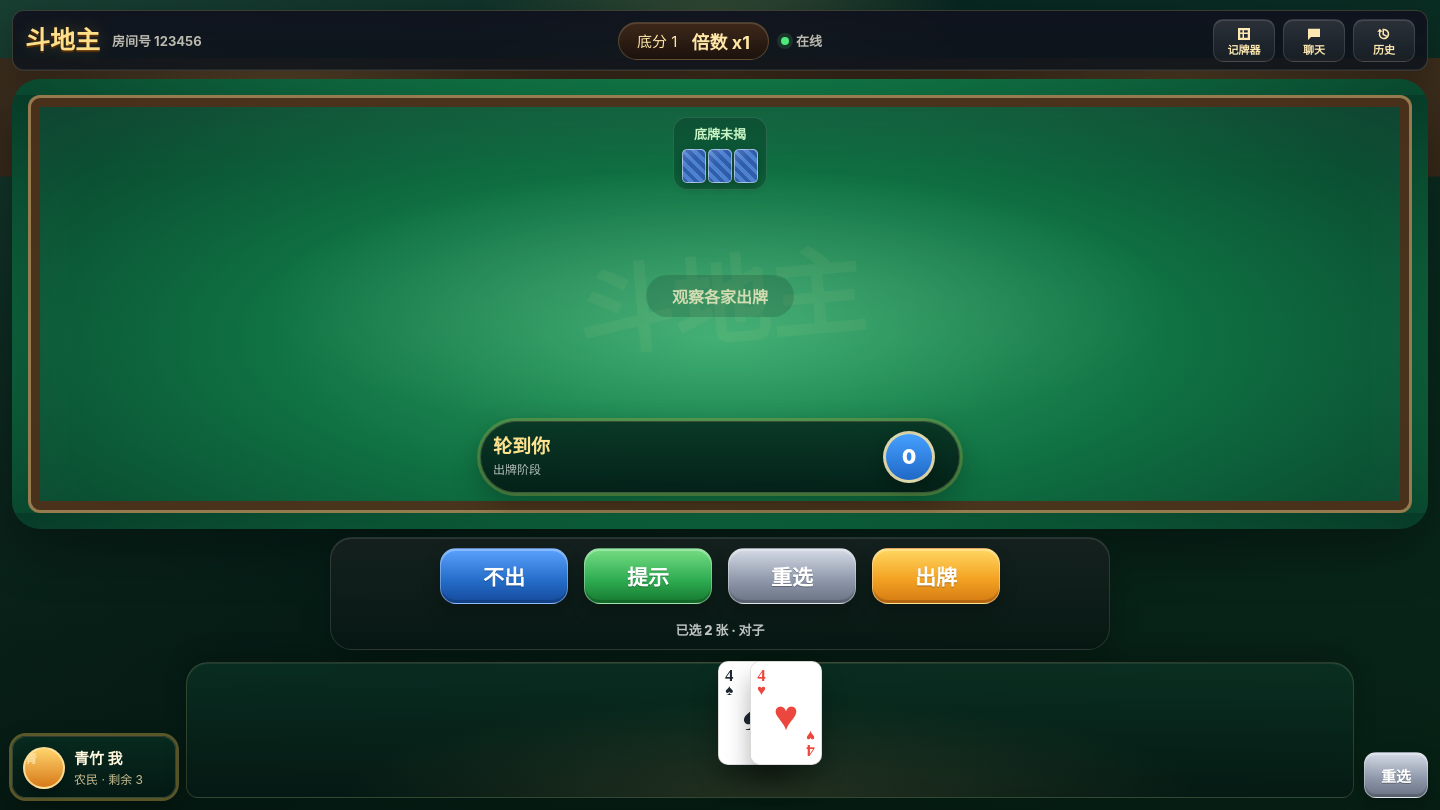
Test: GameTable rule-gated actions › keeps selected cards after a send failure or server rejection
Click the button "出牌" at (936, 576), box [872,548,1000,604]
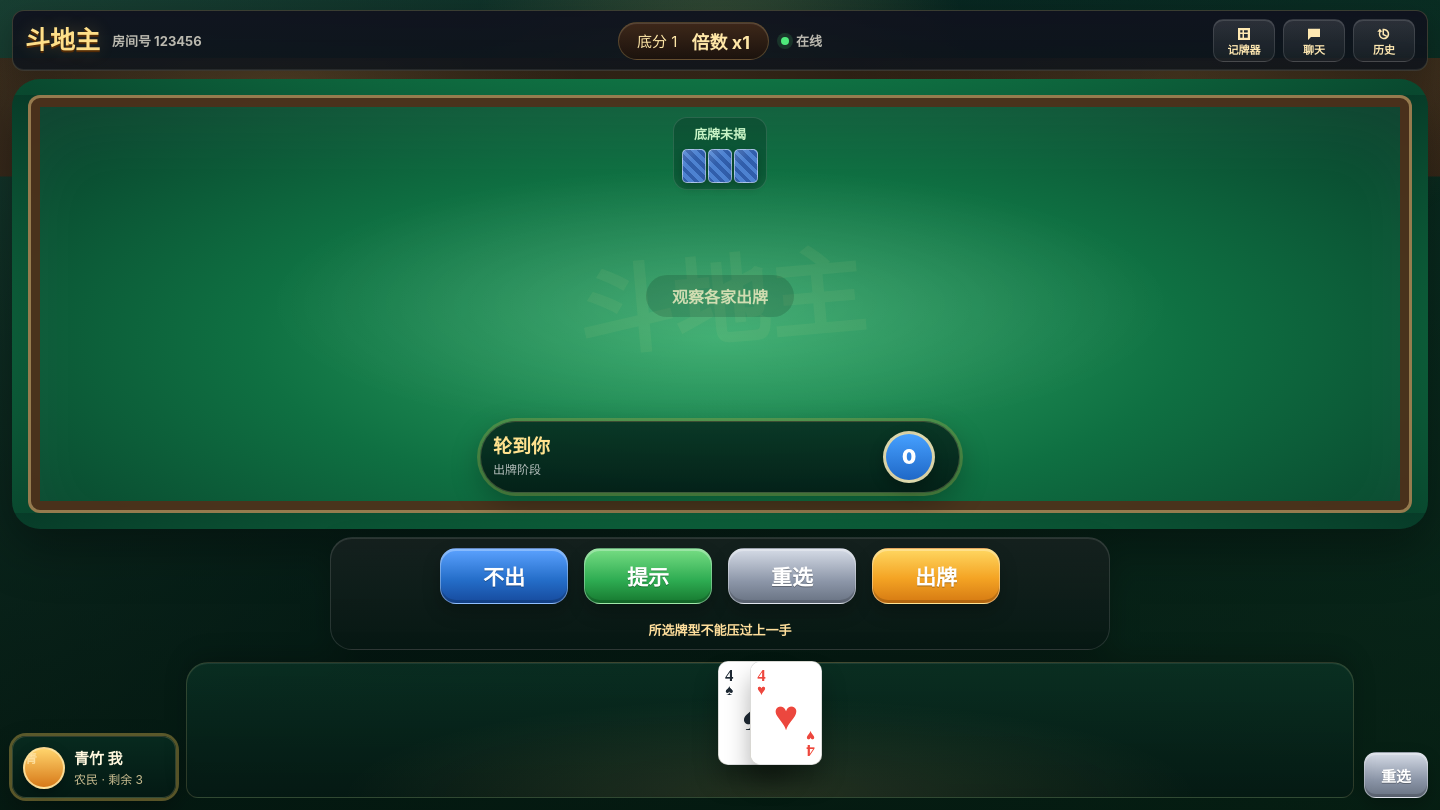
Result: the text "所选牌型不能压过上一手" is shown at [648,622,792,638]
